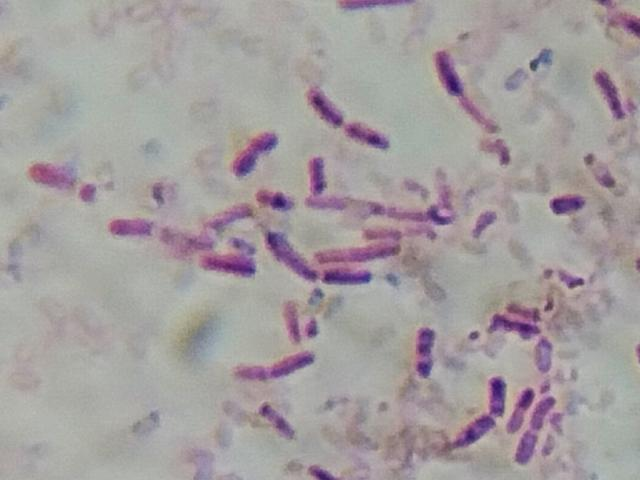E. coli: (438, 56, 497, 136), (29, 155, 99, 199), (232, 352, 319, 386), (222, 123, 281, 173), (596, 66, 637, 128), (412, 323, 446, 390), (319, 243, 410, 264), (305, 190, 382, 214), (271, 227, 306, 278), (542, 189, 591, 223), (373, 222, 442, 245), (305, 85, 350, 119), (263, 399, 299, 440), (205, 249, 255, 278), (212, 197, 252, 231), (585, 155, 620, 193), (458, 407, 489, 449), (351, 120, 392, 150), (111, 212, 154, 240), (309, 456, 355, 480), (281, 297, 310, 334), (468, 202, 500, 234), (605, 10, 640, 38), (325, 267, 379, 285), (485, 375, 509, 415), (312, 152, 337, 190), (498, 315, 538, 338), (395, 203, 441, 223), (532, 336, 554, 376), (512, 382, 530, 430), (252, 185, 288, 205), (511, 295, 540, 319), (519, 429, 537, 465)
